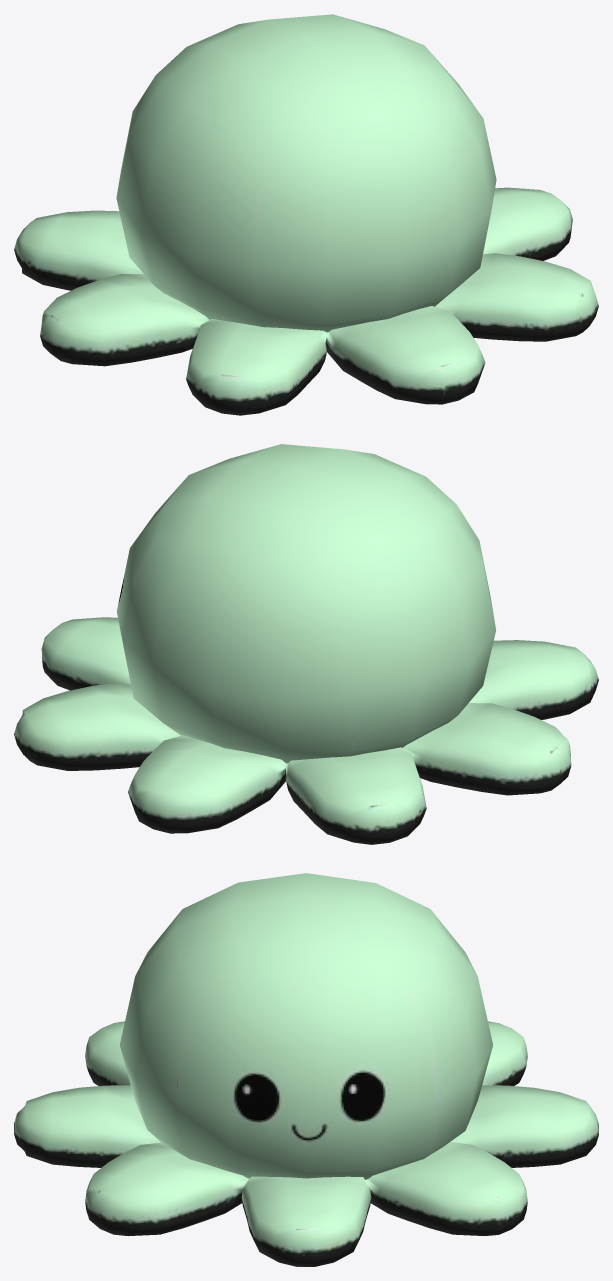
The model's file is octopus.glb.
3 renders of one model, top to bottom at view 1: azimuth 30°, elevation 25°; view 2: azimuth 150°, elevation 25°; view 3: azimuth 270°, elevation 25°, orthographic. The views are drawn at different scales.
Parts seen in each view (by area): view 1: Head_low__0; view 2: Head_low__0; view 3: Head_low__0.
Boxes of the visible parts, x1,y1,x2,y2 form: Head_low__0: [14, 14, 598, 415]; Head_low__0: [14, 444, 598, 844]; Head_low__0: [14, 873, 598, 1266].
Size of the model in its own units: 3.13 by 1.49 by 3.13.
Materials: 1 (1 with a texture image).
